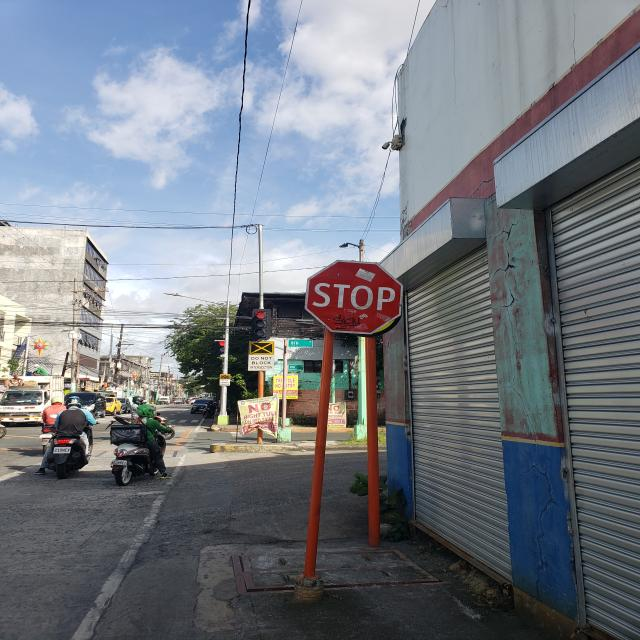stop-sign: (304, 259, 404, 335)
